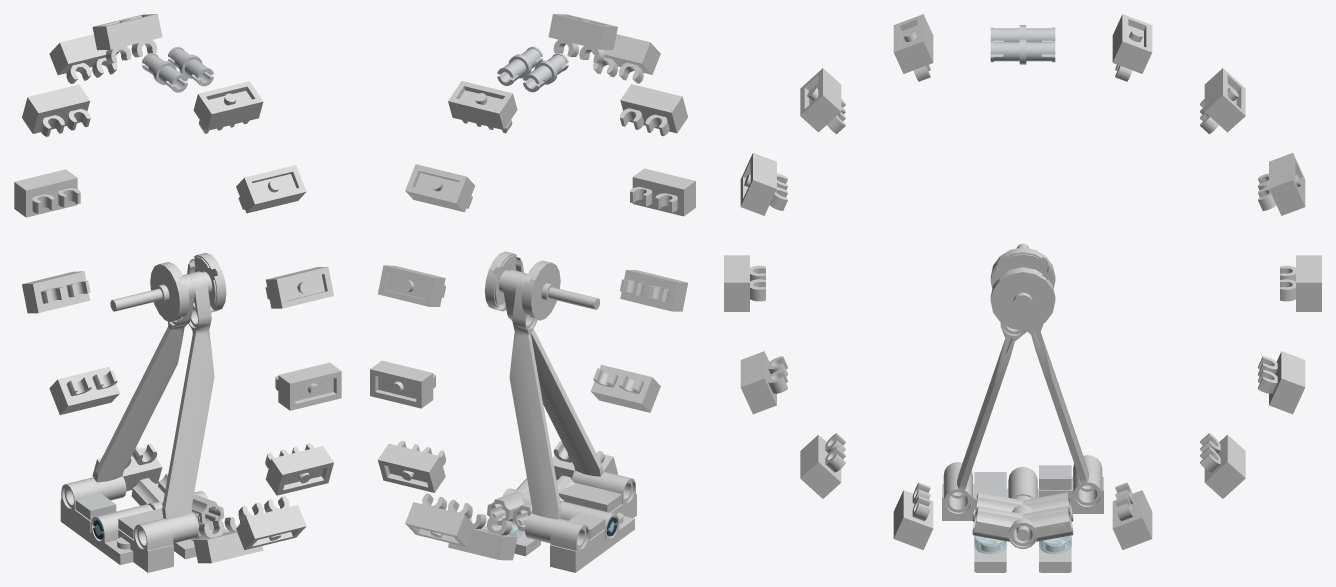
File: London_4.dae
3 views of the same model, side by side, from view 1: azimuth 30°, elevation 25°; view 2: azimuth 150°, elevation 25°; view 3: azimuth 270°, elevation 25° (orthographic). The views are drawn at different scales.
Parts seen in each view (by area): view 1: Untitled_016, Untitled_015, Untitled_027, Untitled_033, Untitled_030, Untitled_024, Untitled_019, Untitled_036, Untitled_012, Untitled_004, Untitled_039, Untitled_017 (+32 smaller); view 2: Untitled_015, Untitled_016, Untitled_048, Untitled_054, Untitled_051, Untitled_045, Untitled_057, Untitled_019, Untitled_011, Untitled_017, Untitled_060, Untitled_013 (+33 smaller); view 3: Untitled_017, Untitled_021, Untitled_016, Untitled_015, Untitled_020, Untitled_023, Untitled_024, Untitled_045, Untitled_019, Untitled_027, Untitled_048, Untitled (+22 smaller).
Part boxes in pixels (bbox=[...]): Untitled_016: bbox=[162, 271, 214, 543]; Untitled_015: bbox=[91, 274, 194, 500]; Untitled_027: bbox=[240, 165, 306, 208]; Untitled_033: bbox=[284, 367, 341, 410]; Untitled_030: bbox=[271, 266, 333, 308]; Untitled_024: bbox=[196, 81, 263, 122]; Untitled_019: bbox=[150, 262, 189, 322]; Untitled_036: bbox=[271, 454, 333, 495]; Untitled_012: bbox=[118, 518, 173, 561]; Untitled_004: bbox=[90, 510, 133, 564]; Untitled_039: bbox=[240, 515, 306, 550]; Untitled_017: bbox=[187, 252, 226, 312]; Untitled_015: bbox=[509, 273, 561, 543]; Untitled_016: bbox=[503, 270, 605, 487]; Untitled_048: bbox=[405, 164, 470, 207]; Untitled_054: bbox=[370, 365, 427, 408]; Untitled_051: bbox=[378, 265, 440, 306]; Untitled_045: bbox=[448, 81, 515, 121]; Untitled_057: bbox=[378, 451, 440, 492]; Untitled_019: bbox=[521, 260, 560, 320]; Untitled_011: bbox=[550, 518, 605, 561]; Untitled_017: bbox=[484, 251, 523, 311]; Untitled_060: bbox=[405, 513, 470, 547]; Untitled_013: bbox=[559, 482, 621, 512]; Untitled_017: bbox=[990, 267, 1055, 330]; Untitled_021: bbox=[972, 506, 1073, 548]; Untitled_016: bbox=[944, 323, 1027, 515]; Untitled_015: bbox=[1027, 323, 1101, 508]; Untitled_020: bbox=[972, 492, 1073, 529]; Untitled_023: bbox=[990, 38, 1055, 64]; Untitled_024: bbox=[893, 14, 928, 62]; Untitled_045: bbox=[1117, 14, 1152, 62]; Untitled_019: bbox=[990, 247, 1055, 288]; Untitled_027: bbox=[800, 68, 832, 123]; Untitled_048: bbox=[1213, 68, 1245, 123]; Untitled: bbox=[1039, 535, 1071, 572].
Bounding box in the file's own units: 0.0368 × 0.1479 × 0.1438.
